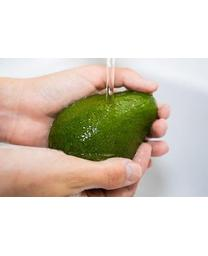avocado: (47, 89, 160, 178)
